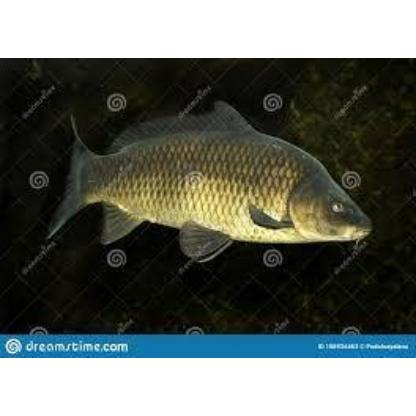ikan-mas: (64, 117, 374, 251)
